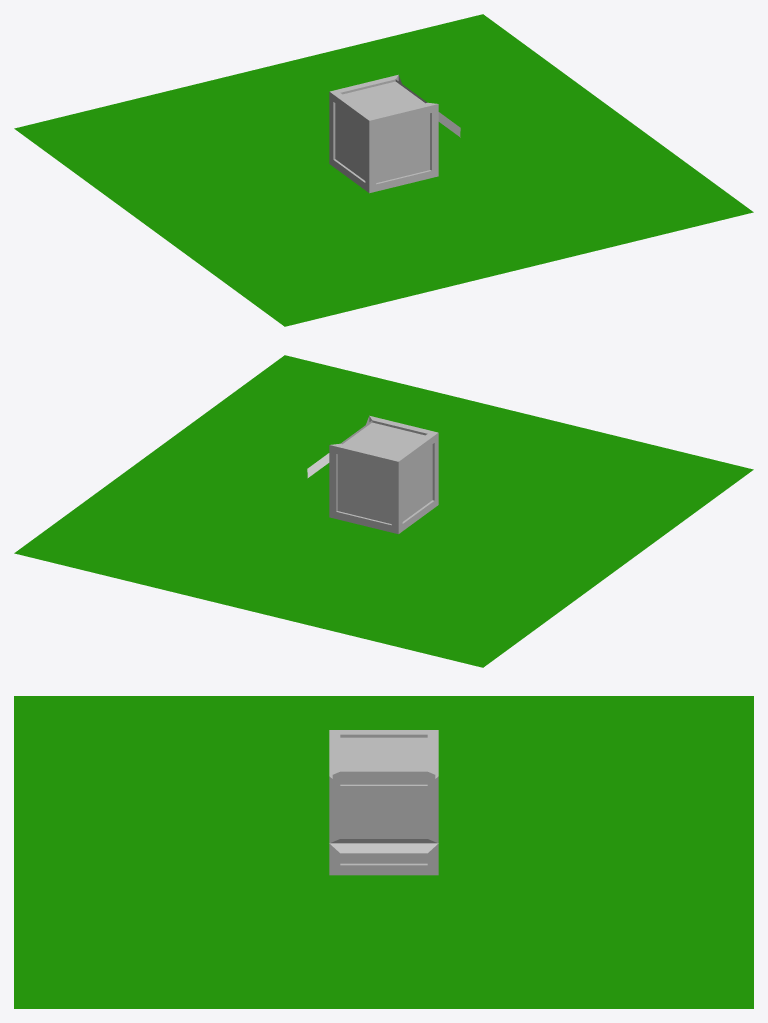
Rendered from caixa_000052.obj.
3 views of the same model, one above another, from view 1: azimuth 30°, elevation 25°; view 2: azimuth 150°, elevation 25°; view 3: azimuth 270°, elevation 25° (orthographic). The views are drawn at different scales.
Parts seen in each view (by area): view 1: Plane, Cube_Cube.003; view 2: Plane, Cube_Cube.003; view 3: Plane, Cube_Cube.003, Cube.002_Cube.001, Cube.001_Cube.000.
Part boxes in pixels (x1,y1,x2,y2): Plane: (14, 14, 753, 326); Cube_Cube.003: (329, 74, 438, 193); Plane: (14, 355, 753, 667); Cube_Cube.003: (329, 415, 438, 534); Plane: (14, 696, 753, 1008); Cube_Cube.003: (329, 730, 438, 875); Cube.002_Cube.001: (340, 784, 427, 863); Cube.001_Cube.000: (329, 839, 438, 853).
Bounding box in the file's own units: 13.55 × 2.01 × 13.55.
